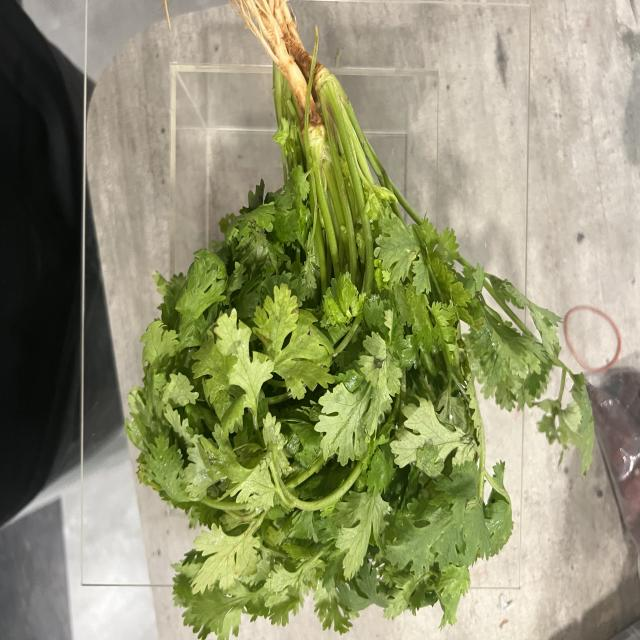cilantro: (127, 0, 547, 633)
